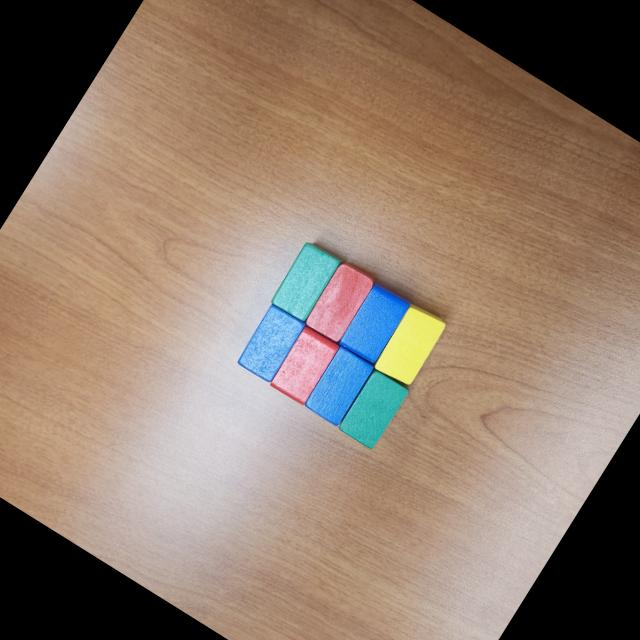blue: (336, 280, 412, 366), (302, 346, 376, 428), (234, 304, 308, 386)
green: (268, 237, 346, 326), (336, 364, 412, 452)
red: (301, 257, 378, 346), (268, 326, 338, 404)
yellow: (370, 298, 449, 389)
